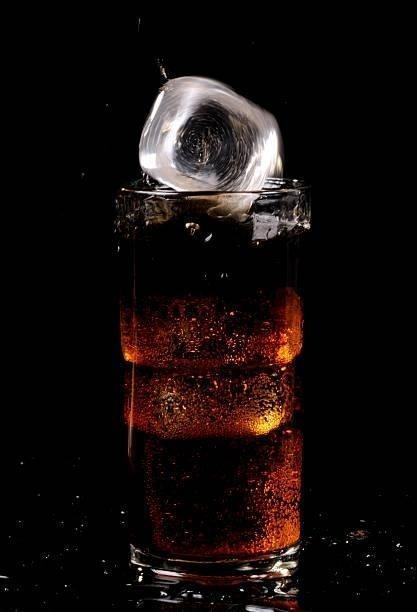glass-normal: (108, 168, 316, 594)
